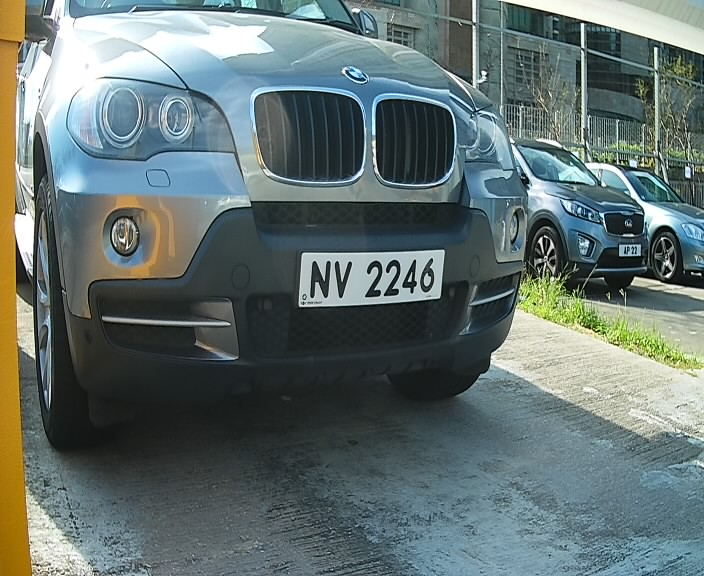Car: (2, 2, 534, 437)
License Plate: (280, 246, 456, 322)
